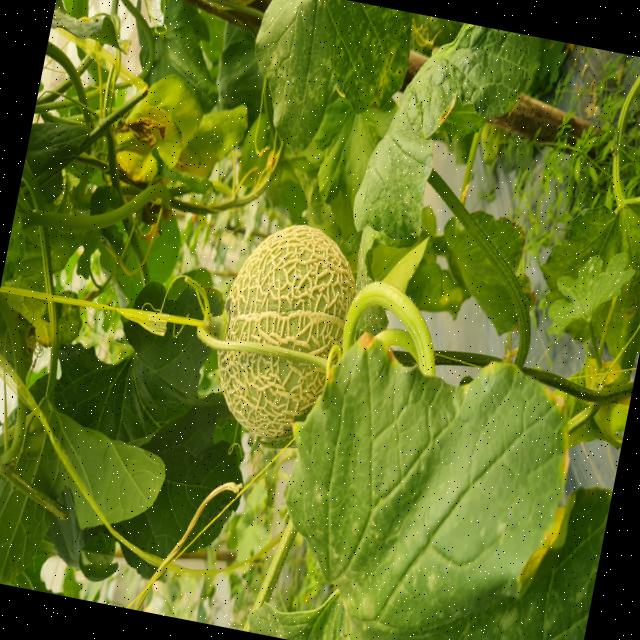melon: (224, 224, 356, 358), (218, 349, 326, 438)
